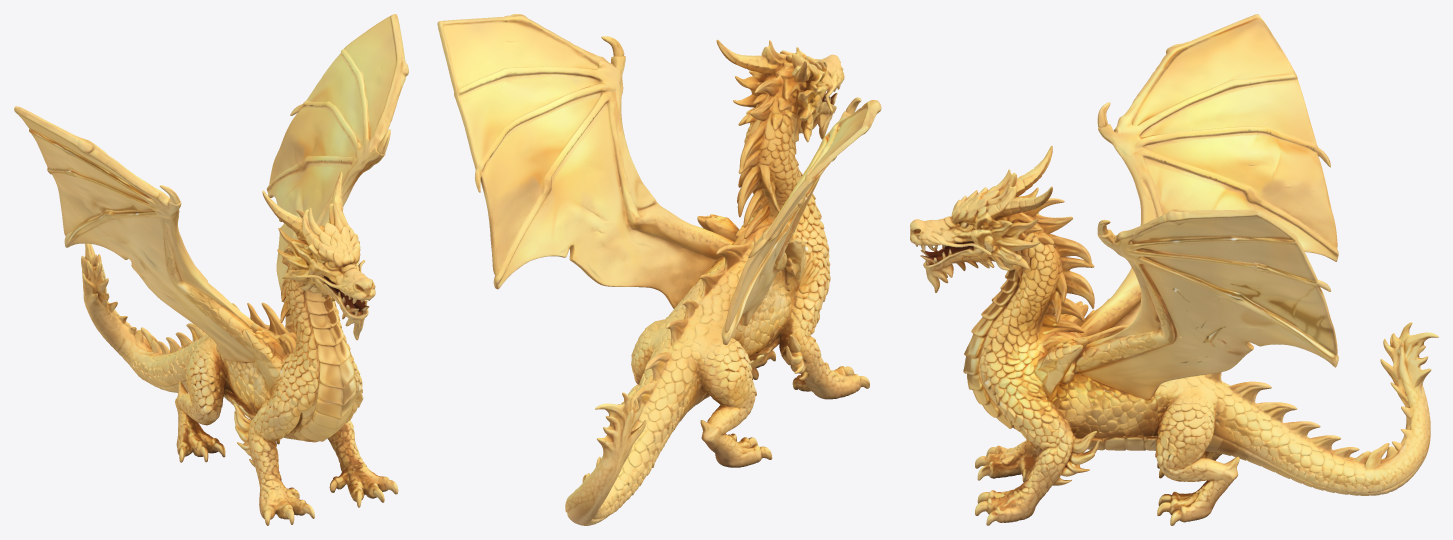
The model's file is chair.glb.
The picture shows the model from 3 angles, left to right: view 1: azimuth 30°, elevation 25°; view 2: azimuth 150°, elevation 25°; view 3: azimuth 270°, elevation 25°; orthographic projection. The views are drawn at different scales.
Parts seen in each view (by area): view 1: model; view 2: model; view 3: model.
Boxes of the visible parts, left/top/right/bottom form: model: left=14, top=14, right=408, bottom=525; model: left=437, top=14, right=881, bottom=525; model: left=910, top=14, right=1438, bottom=525.
Size of the model in its own units: 1.69 by 1.51 by 1.9.
Materials: 1 (1 with a texture image).
